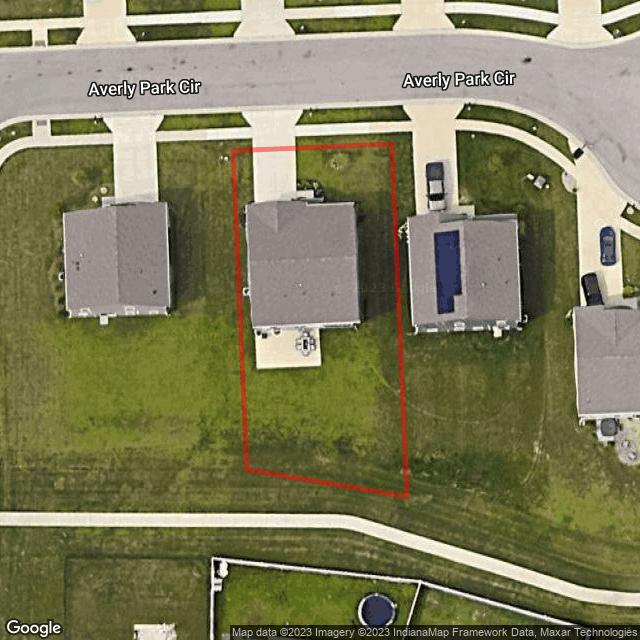Driveway: (253, 151, 297, 204), (297, 191, 314, 200)
Extra Driveway: (240, 109, 305, 148)
Extra Lawn: (295, 106, 388, 124), (296, 134, 391, 146), (229, 112, 251, 128), (231, 139, 252, 149)
Extra Sidewalk: (294, 123, 390, 137), (229, 127, 252, 139)
House: (247, 201, 362, 327)
Other: (254, 327, 322, 368)
